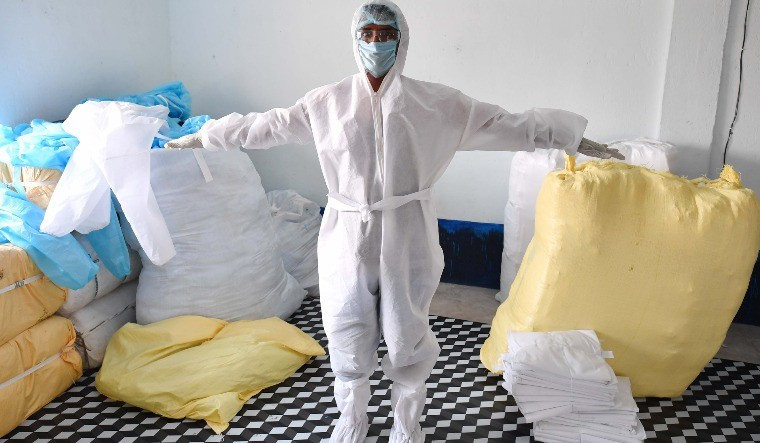Coverall: (196, 73, 586, 380)
Gloves: (578, 135, 626, 162), (159, 129, 205, 150)
Goggles: (354, 28, 402, 44)
with_mask: (353, 17, 405, 80)
